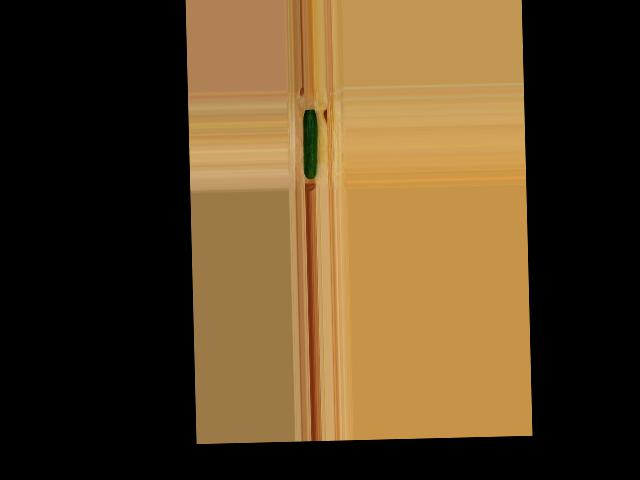cucumber: (302, 110, 318, 179)
